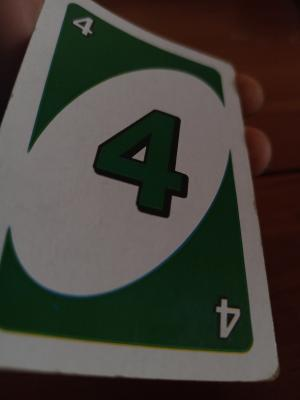green: (58, 29, 238, 349)
num_4: (213, 295, 248, 338), (66, 10, 98, 39)
